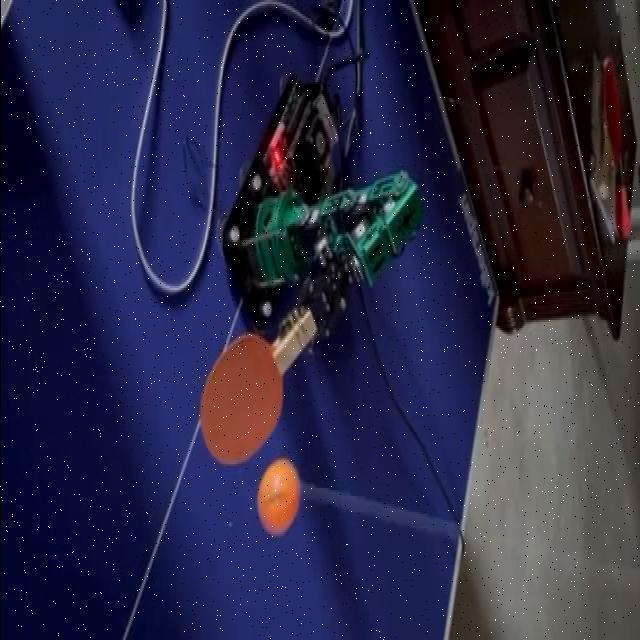ping-pong-ball: (256, 454, 298, 534)
